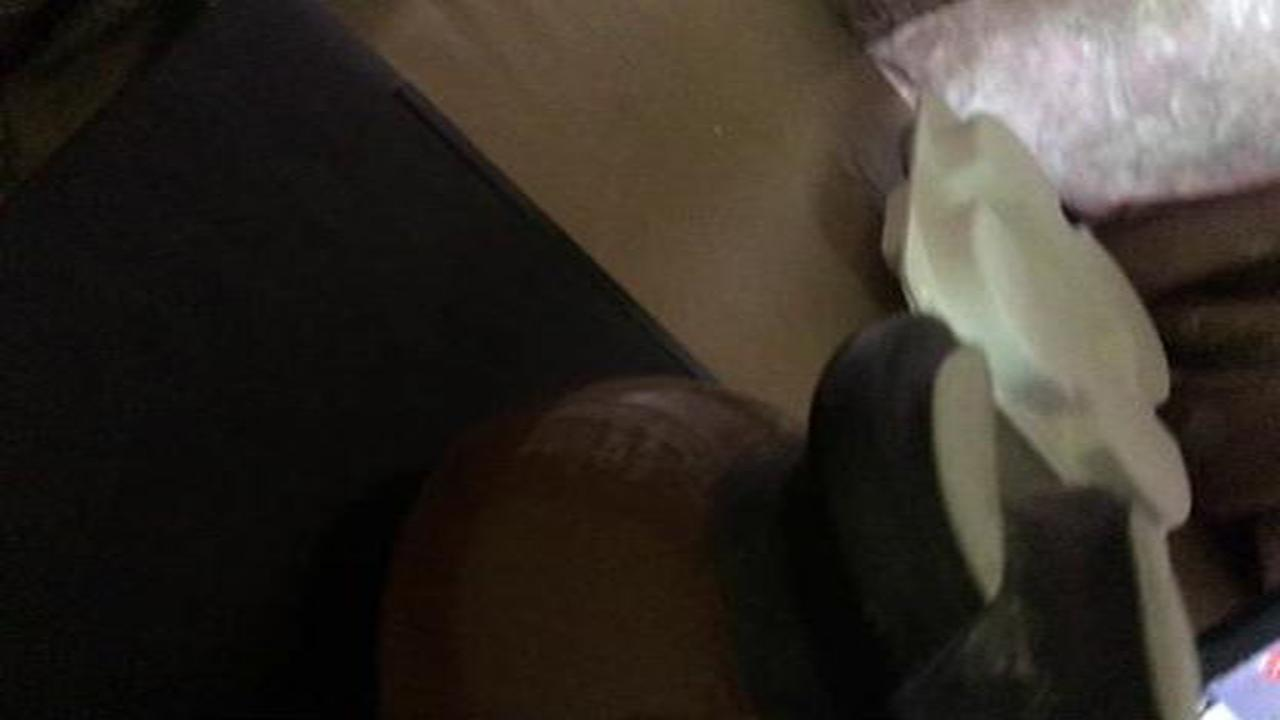insulator_pin: (351, 300, 1213, 719)
